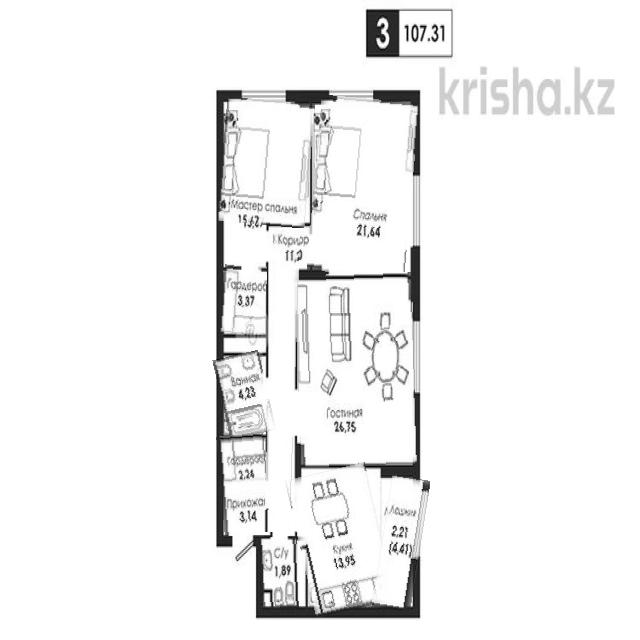balcony: (376, 476, 425, 612)
bathroom: (217, 352, 272, 438), (260, 537, 299, 609)
hallway: (266, 229, 298, 532)
kitchen: (292, 465, 389, 614)
living_room: (295, 273, 416, 467), (310, 97, 416, 277), (219, 98, 313, 227)
other: (218, 434, 269, 535), (221, 265, 266, 335)
